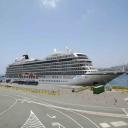cruises: (4, 51, 128, 89)
